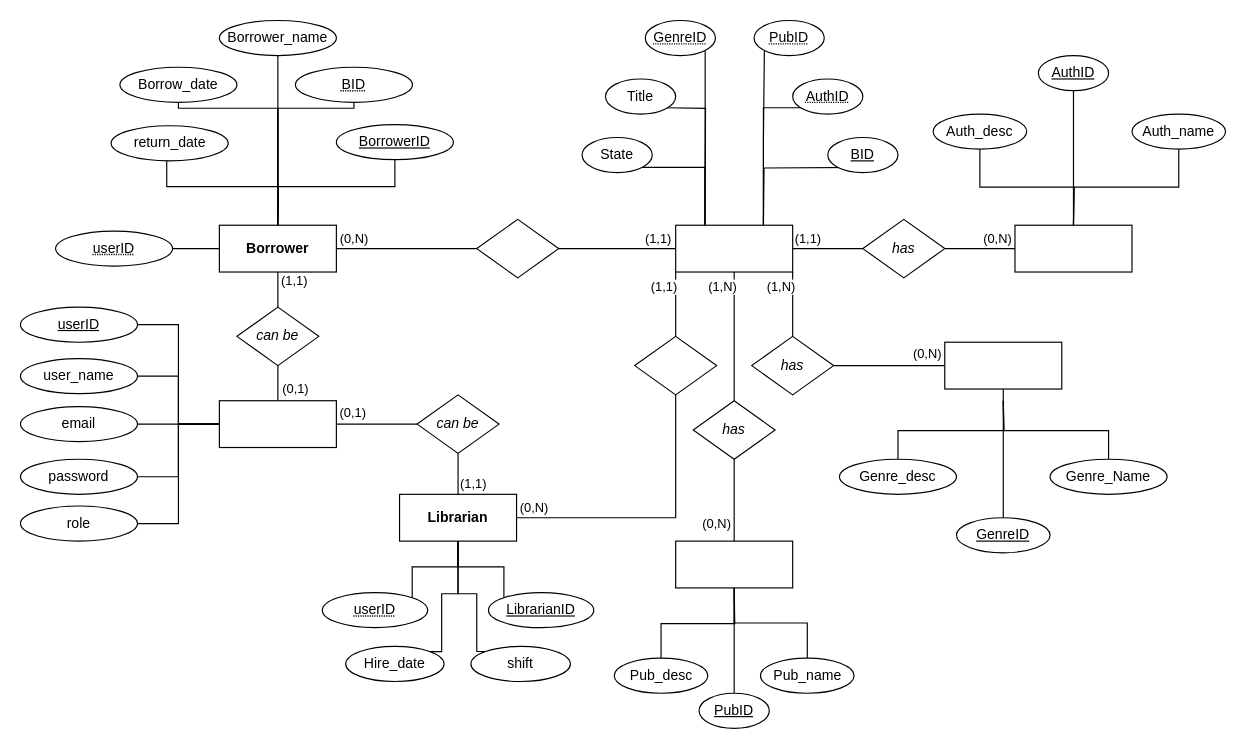
This 1246x749 diagram has some shape labels left out. The centre of each missing label's shape, as x and y in pixels:
"add/del" belongs at [675,365].
"Author" belongs at [1073,248].
"Books" belongs at [734,248].
"borrows" belongs at [517,248].
"Genre" belongs at [1003,365].
"Publisher" belongs at [734,564].
"User" belongs at [277,424].
